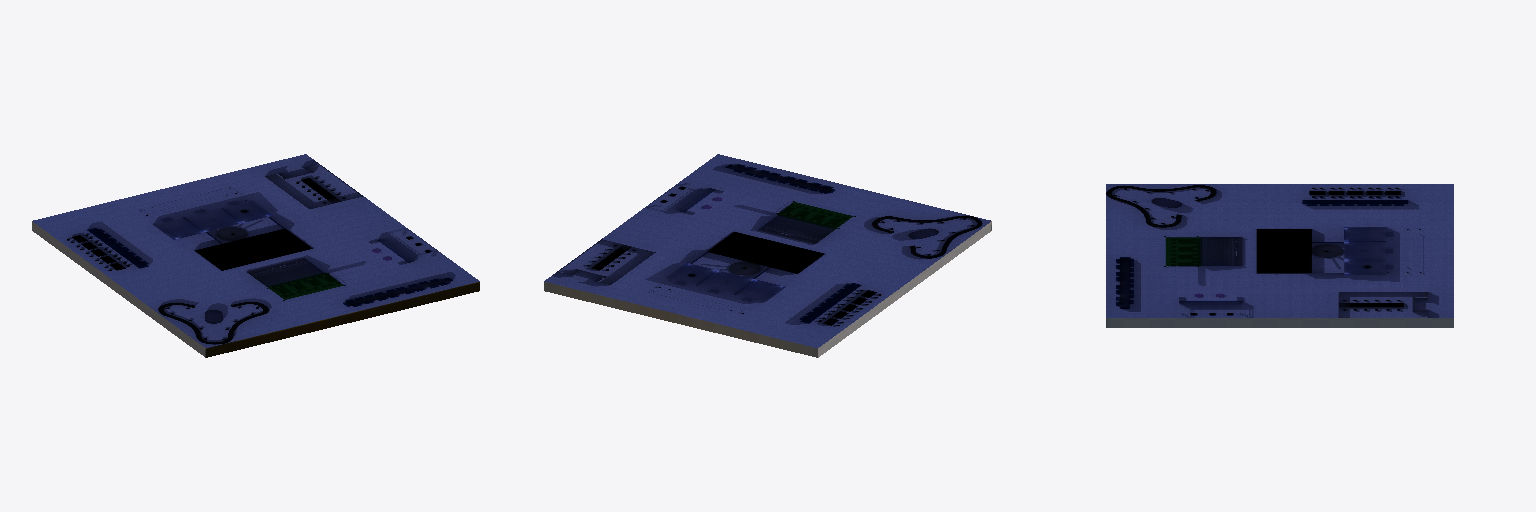
3 views of the same model, side by side, from view 1: azimuth 30°, elevation 25°; view 2: azimuth 150°, elevation 25°; view 3: azimuth 270°, elevation 25° (orthographic).
Parts seen in each view (by area): view 1: Ground; view 2: Ground; view 3: Ground.
Boxes of the visible parts, x1=… form: Ground: x1=32, y1=154, x2=479, y2=357; Ground: x1=544, y1=154, x2=991, y2=357; Ground: x1=1106, y1=184, x2=1453, y2=327.
Size of the model in its own units: 1181 by 39.37 by 1299.
Materials: 1 (1 with a texture image).